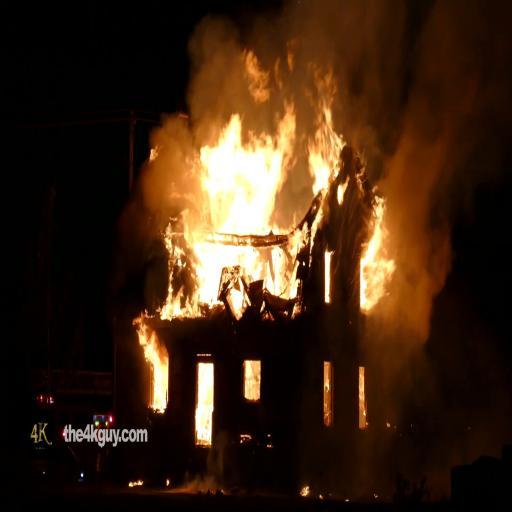fire: (204, 35, 300, 225), (355, 177, 405, 309), (302, 66, 344, 180), (157, 229, 210, 315), (136, 312, 174, 413), (194, 352, 214, 450), (245, 362, 259, 396)
